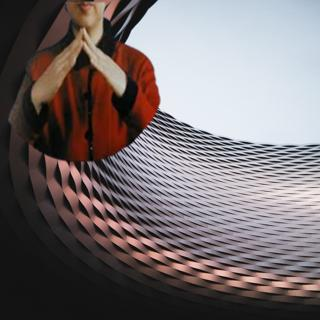HOME: (38, 25, 126, 99)
